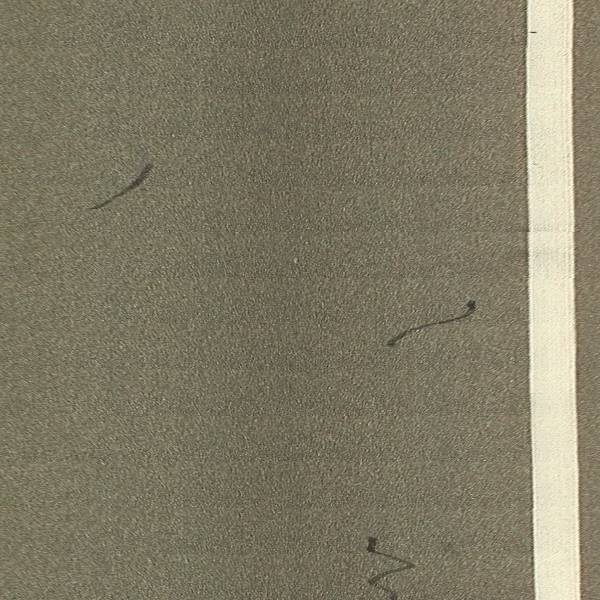road_damage: (384, 295, 480, 351), (362, 533, 418, 600), (87, 160, 155, 214)
